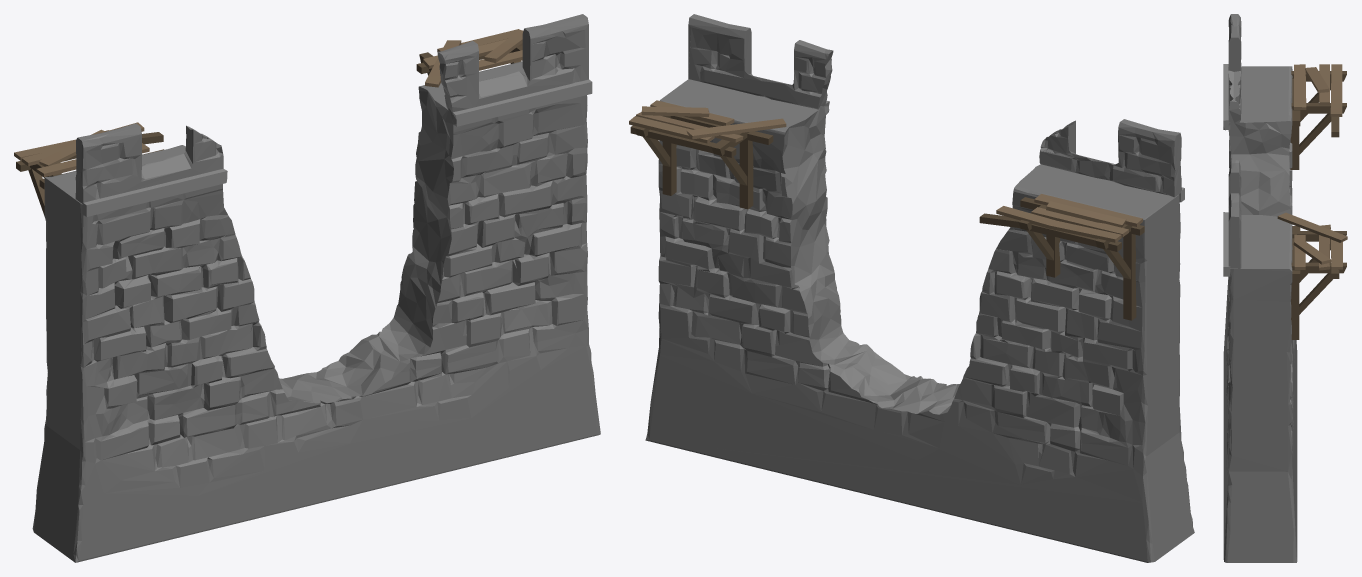
The model's file is castle_battlement_c2_destroyed.FBX.
3 views of the same model, side by side, from view 1: azimuth 30°, elevation 25°; view 2: azimuth 150°, elevation 25°; view 3: azimuth 270°, elevation 25° (orthographic). The views are drawn at different scales.
Visible parts, largest first — view 1: castle_battlement_c2_destroyed; view 2: castle_battlement_c2_destroyed; view 3: castle_battlement_c2_destroyed.
Part boxes in pixels (x1,y1,x2,y2): castle_battlement_c2_destroyed: (14,14,600,562); castle_battlement_c2_destroyed: (629,14,1194,562); castle_battlement_c2_destroyed: (1223,14,1347,562).
Bounding box in the file's own units: 15.63 × 11.8 × 3.89.
